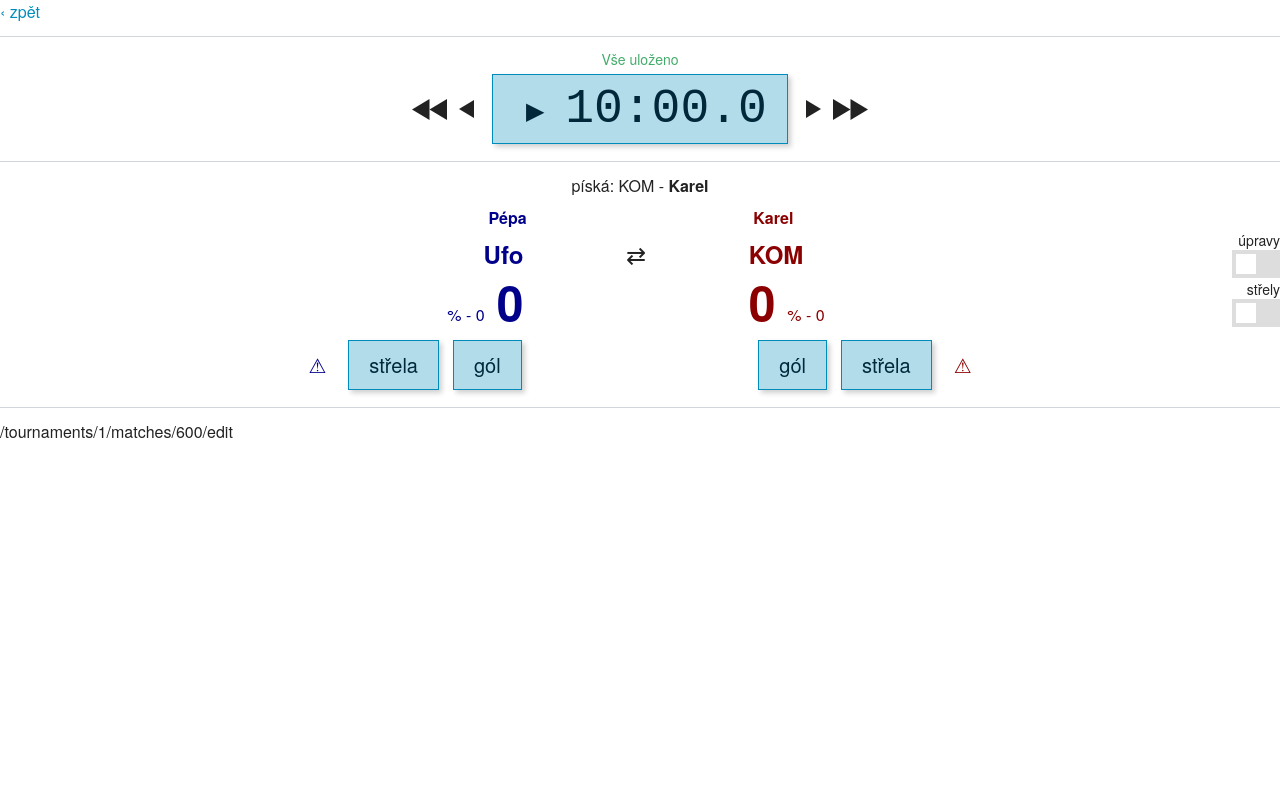
Test: kickoff confirms, saves start and runs the clock
Click the button named "Čas zápasu": x=666, y=109 [565,85,767,133]
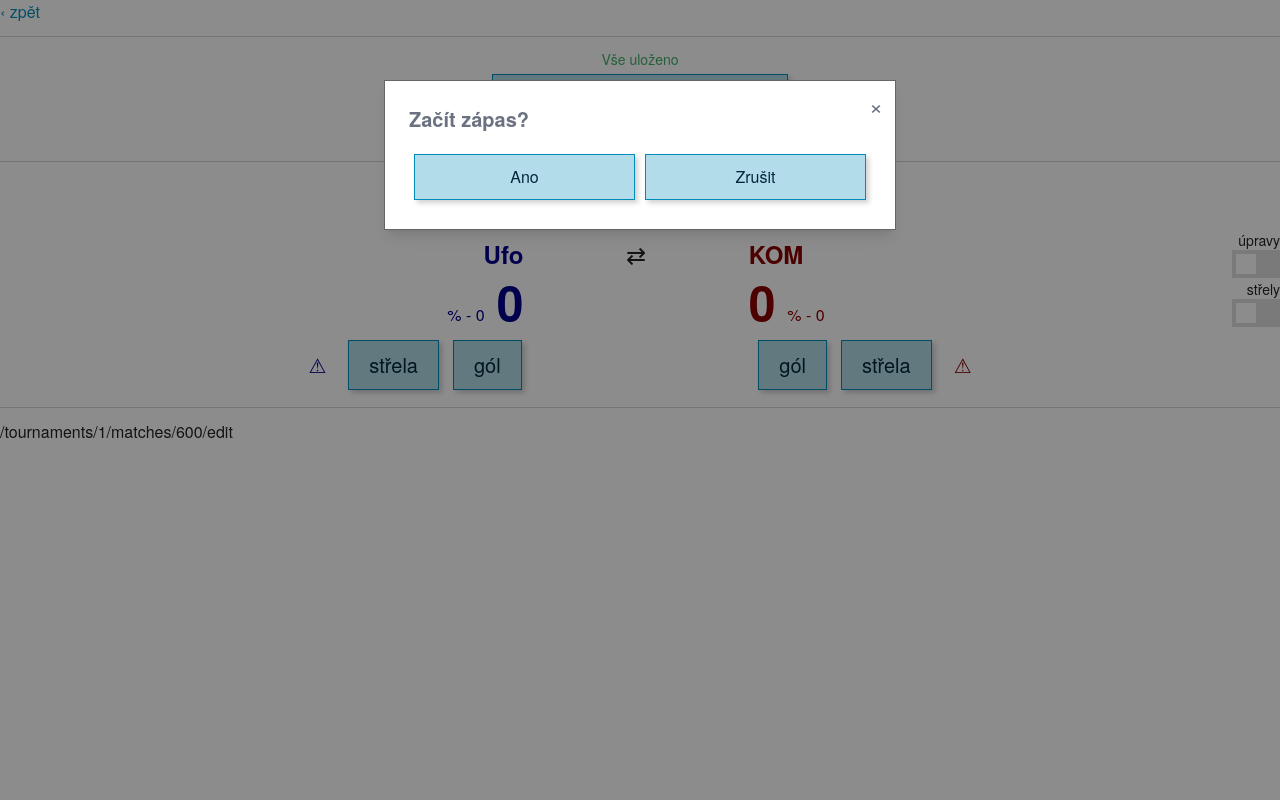
Check: the heading "Začít zápas?" is shown, box [409,104,529,133]
Click the button "Ano": x=524, y=177 [414,154,635,200]
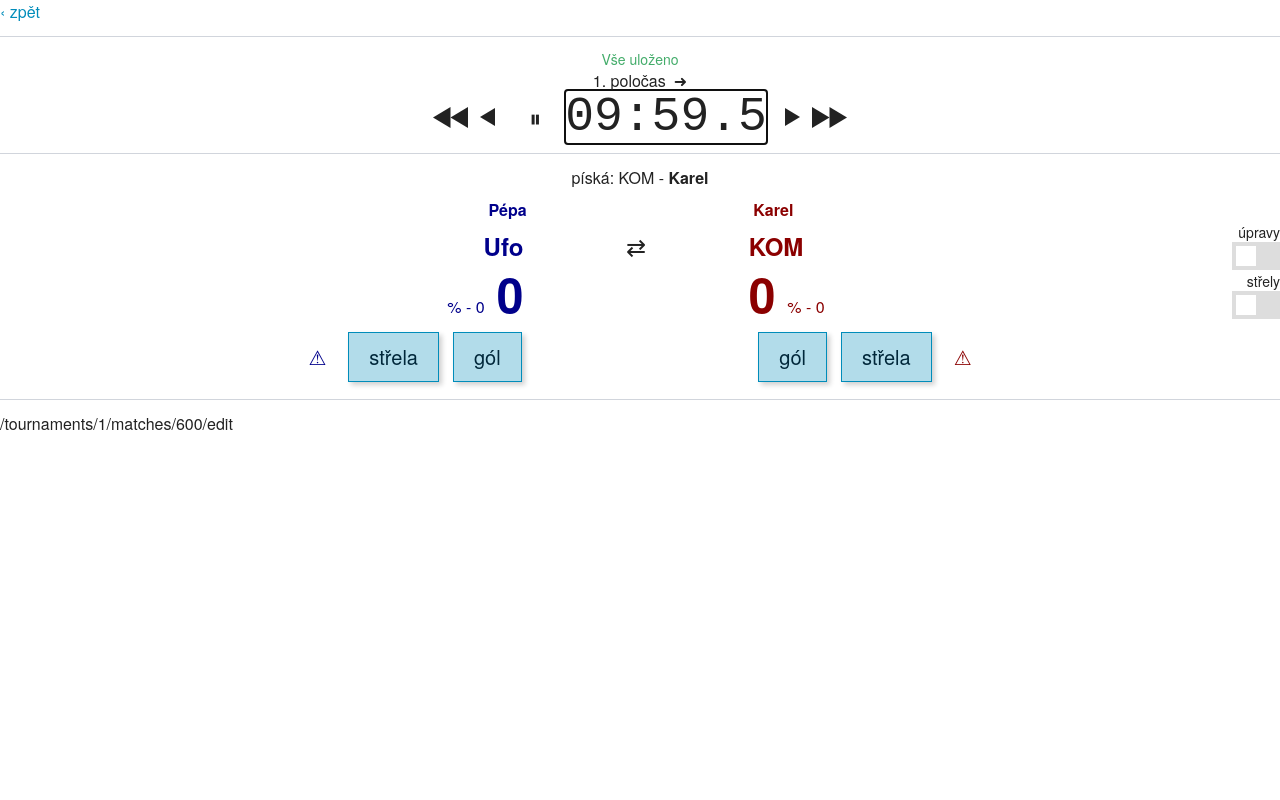
Check: the button named "Zastavit čas" is shown, box [513,95,557,139]
